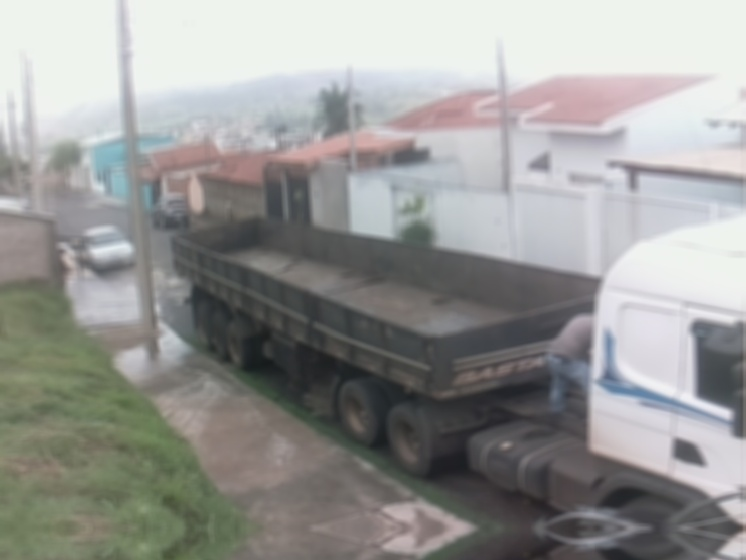person: (542, 311, 595, 421), (56, 246, 74, 287)
